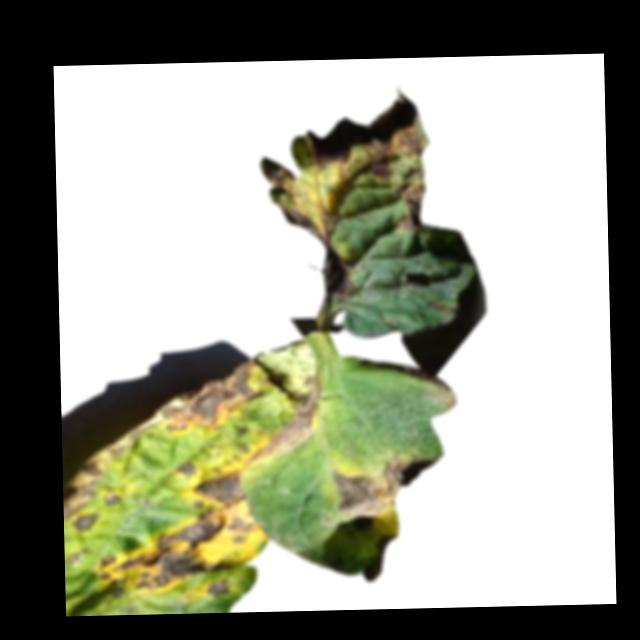Early_blight: (60, 346, 266, 591), (256, 87, 432, 305), (330, 461, 440, 524), (248, 387, 324, 463), (424, 376, 457, 408), (205, 578, 229, 600), (427, 301, 454, 317)
